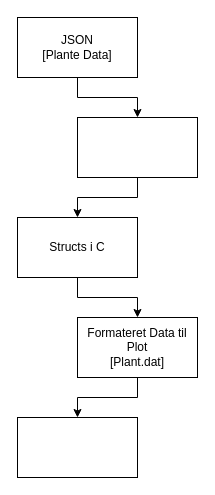
This 215x495 diagram has some shape labels left out. Each missing label, with the centre of its shape:
"CJSON [Plante Data indlæst i C]" belongs at (x=137, y=147).
"Gnuplot" belongs at (x=77, y=447).
